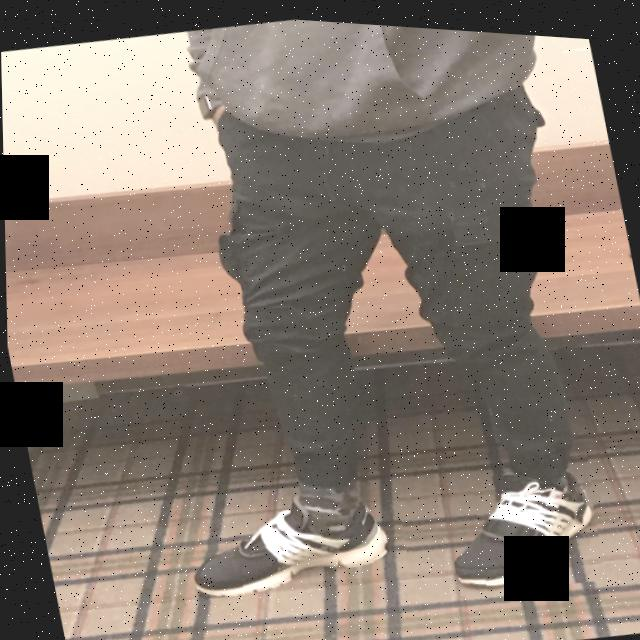shoe: (160, 480, 410, 613), (433, 437, 609, 596)
